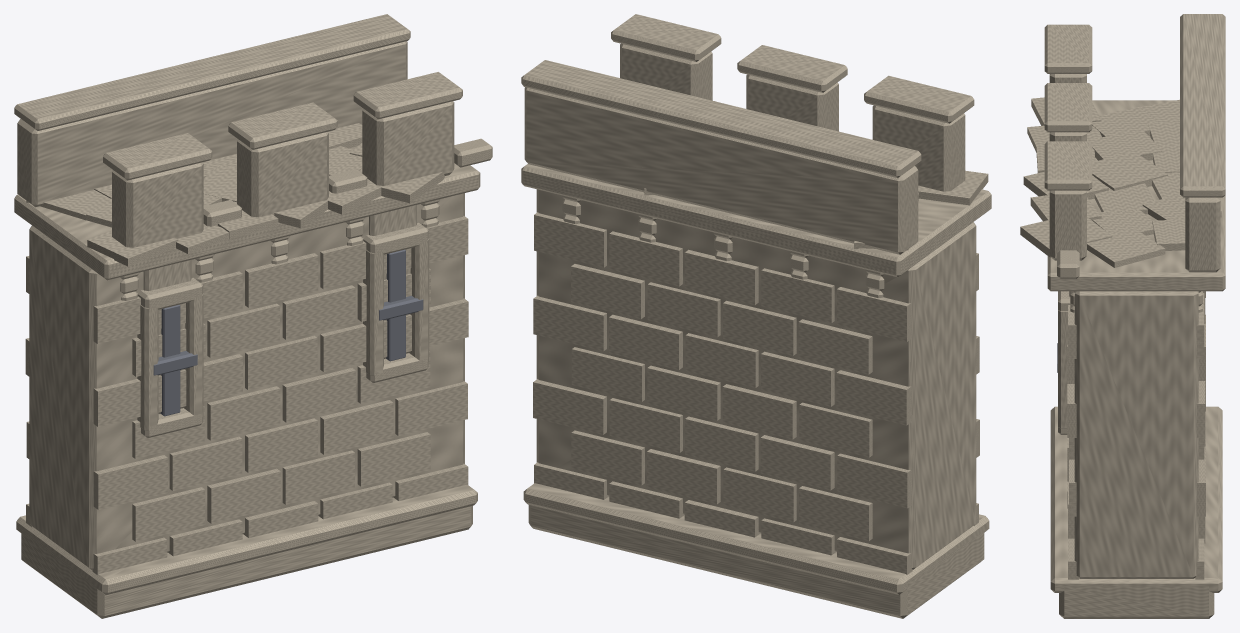
The model's file is fantasy-mmo-city-and-townsfolk-curtain-wall-bay-2d830417.glb.
The picture shows the model from 3 angles, left to right: view 1: azimuth 30°, elevation 25°; view 2: azimuth 150°, elevation 25°; view 3: azimuth 270°, elevation 25°; orthographic projection. The views are drawn at different scales.
Parts seen in each view (by area): view 1: curtain-wall-bay; view 2: curtain-wall-bay; view 3: curtain-wall-bay.
Part boxes in pixels (left/top/right/bottom): curtain-wall-bay: left=14, top=14, right=492, bottom=618; curtain-wall-bay: left=521, top=14, right=991, bottom=618; curtain-wall-bay: left=1020, top=14, right=1225, bottom=618.
Size of the model in its own units: 4.19 by 4.62 by 1.98.
Materials: 2 (1 with a texture image).
